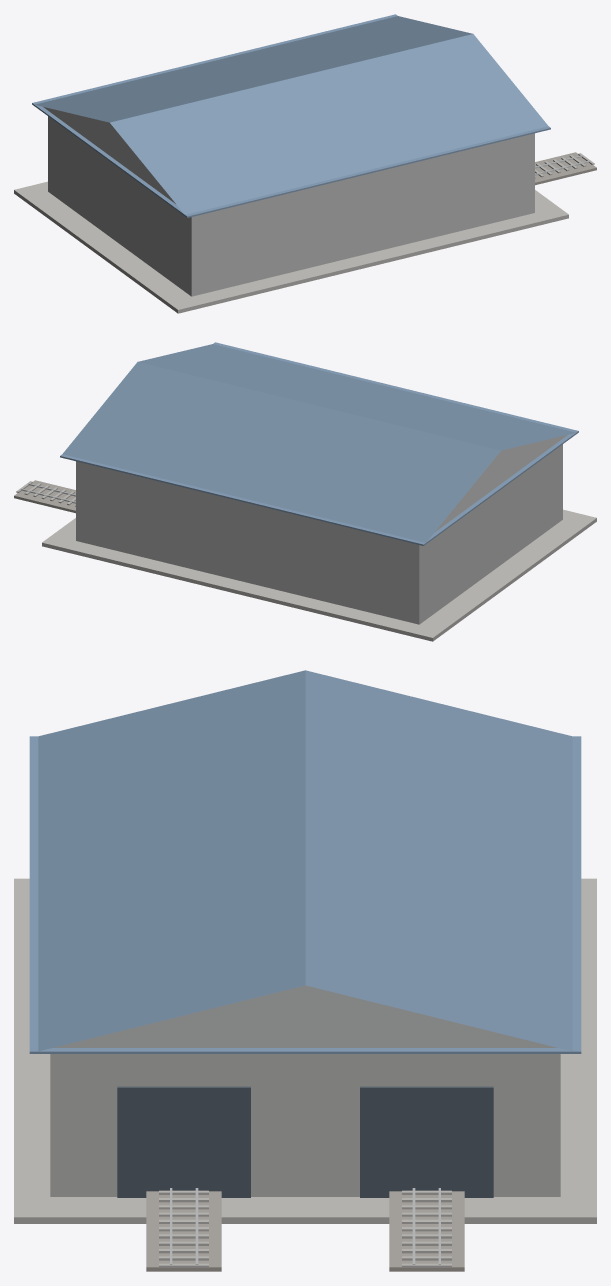
The model's file is 03_stations_3x3-09.glb.
3 renders of one model, top to bottom at view 1: azimuth 30°, elevation 25°; view 2: azimuth 150°, elevation 25°; view 3: azimuth 270°, elevation 25°, orthographic. The views are drawn at different scales.
Size of the model in its own units: 38.6 by 10.3 by 24.
